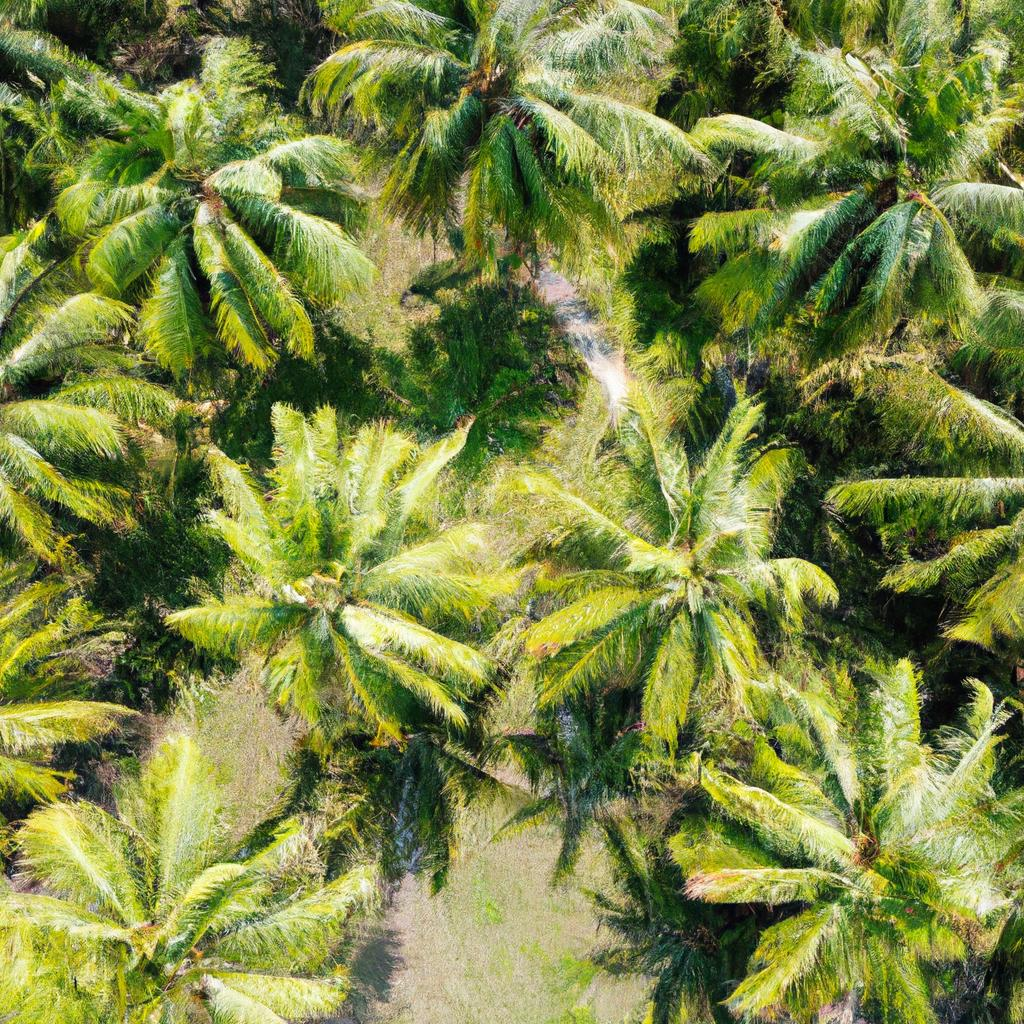coconut_tree: (646, 634, 1023, 1023), (168, 407, 522, 774), (24, 47, 395, 377), (0, 724, 388, 1023), (678, 37, 1023, 339)
